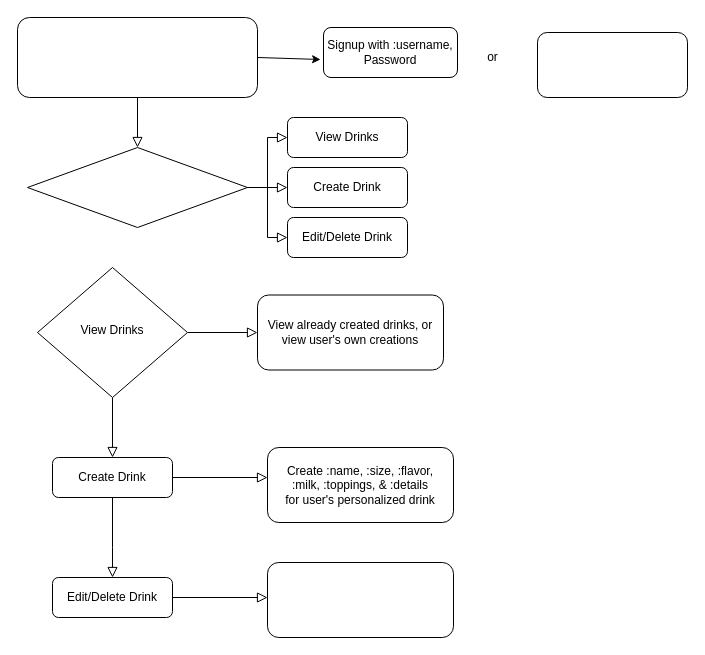
Image size: 705x655. Some labels were removed from this diagram. Here are the shapes that lost their labels. From the top down, the centre of each, then its label:
the point at 137,57: HomePage: User can signup/login
the point at 612,65: Login with previously created :username, :password to access account
the point at 137,187: User Directed to Account page
the point at 360,600: Edit a drinks attributes or delete drink entirely
